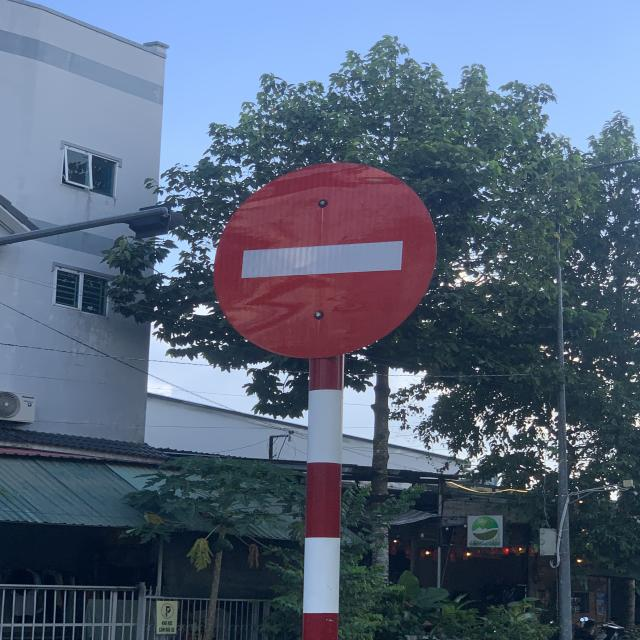Cam_Di_Nguoc_Chieu: (210, 165, 441, 359)
